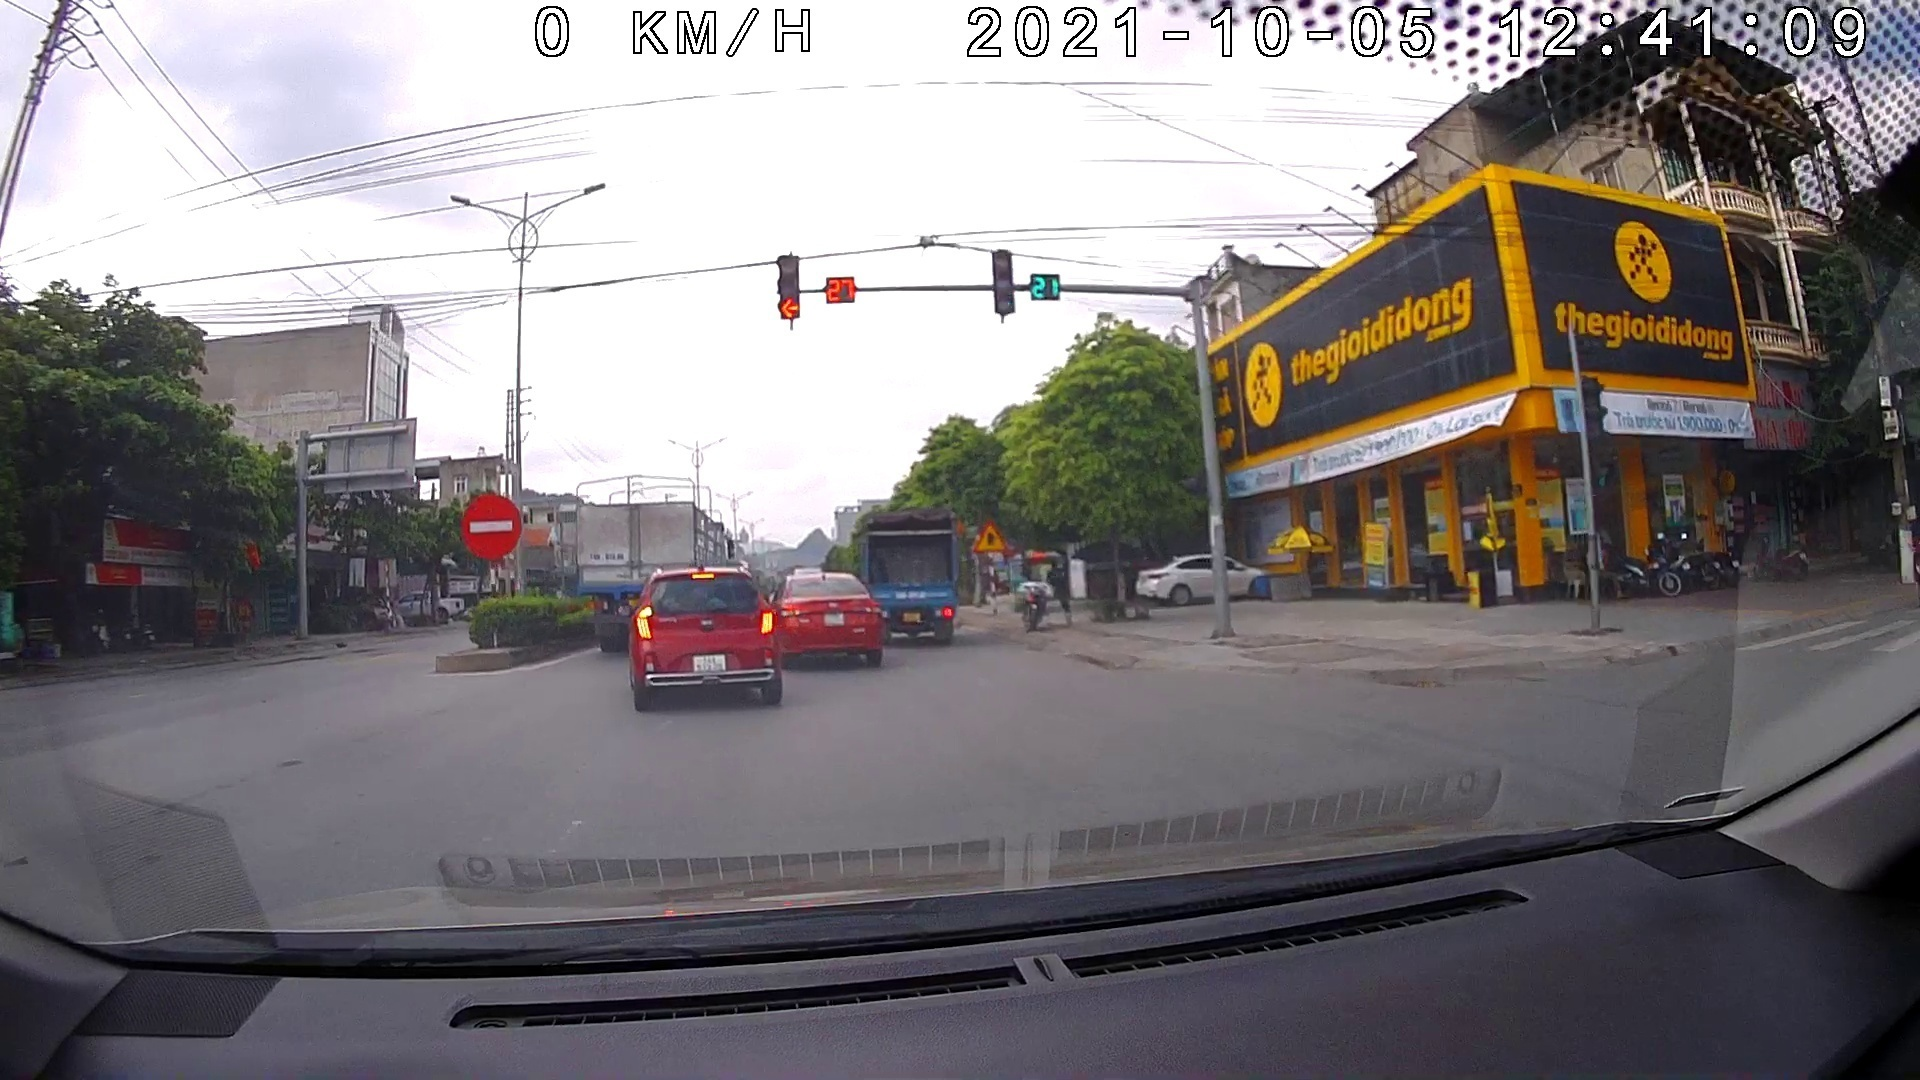Cam di nguoc chieu: (456, 488, 527, 559)
Giao nhau voi duong khong uu tien: (971, 520, 1009, 556)
